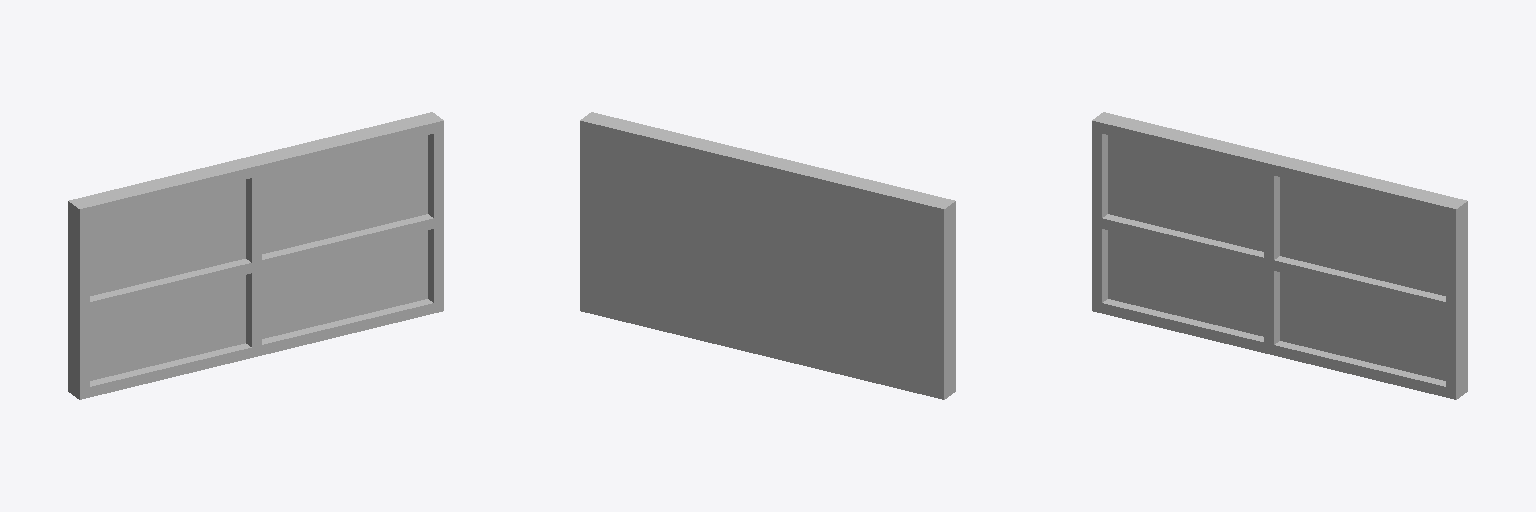
File: window.obj
3 renders of one model, left to right at view 1: azimuth 30°, elevation 25°; view 2: azimuth 150°, elevation 25°; view 3: azimuth 330°, elevation 25°, orthographic.
Parts seen in each view (by area): view 1: object 1; view 2: object 1; view 3: object 1.
Part boxes in pixels (x1,y1,x2,y2): object 1: (68, 112, 443, 399); object 1: (580, 112, 955, 399); object 1: (1092, 112, 1467, 399).
Bounding box in the file's own units: 3.6 × 1.8 × 0.2.